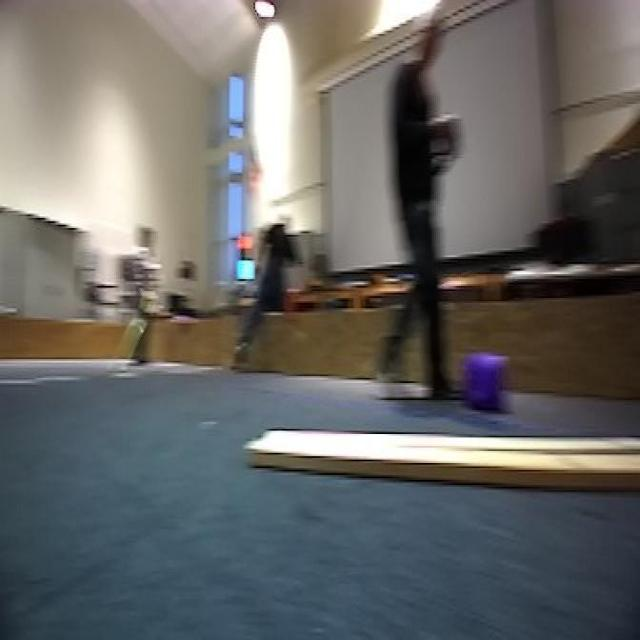frc_cube: (465, 352, 511, 416)
